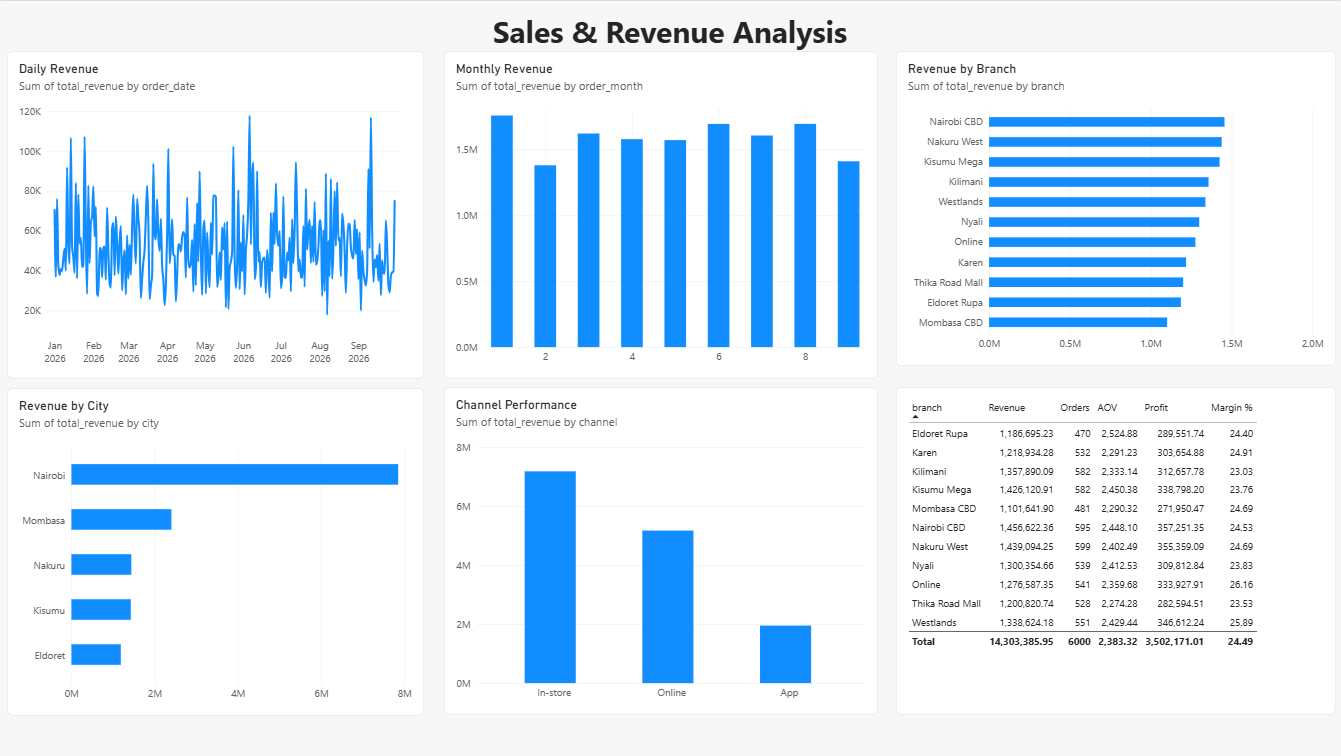

The page's visual inventory and layout, read from the dashboard file:
{"tool":"powerbi","page":{"name":"2. Sales & Revenue Analysis","canvas":[1920,1080],"ordinal":1},"visuals":[{"type":"textbox","box":[0,14.4,1920,57.5],"z":0},{"type":"lineChart","title":"Daily Revenue","fields":{"Y":["Sum(clean_pharmacy v_pharmacy_daily_sales.total_revenue)"],"Category":["clean_pharmacy v_pharmacy_daily_sales.order_date"]},"box":[12.9,71.4,595.8,468],"z":1000},{"type":"clusteredColumnChart","title":"Monthly Revenue","fields":{"Category":["clean_pharmacy v_pharmacy_daily_sales.order_month"],"Y":["Sum(clean_pharmacy v_pharmacy_daily_sales.total_revenue)"]},"box":[637.1,71.4,619.8,468],"z":2000},{"type":"clusteredBarChart","title":"Revenue by Branch","fields":{"Category":["clean_pharmacy v_branch_performance.branch"],"Y":["Sum(clean_pharmacy v_branch_performance.total_revenue)"]},"box":[1282.9,71.4,627.8,450.4],"z":3000},{"type":"clusteredBarChart","title":"Revenue by City","fields":{"Category":["clean_pharmacy v_city_performance.city"],"Y":["Sum(clean_pharmacy v_city_performance.total_revenue)"]},"box":[12.9,552.9,595.8,468],"z":4000},{"type":"clusteredColumnChart","title":"Channel Performance","fields":{"Category":["clean_pharmacy v_channel_performance.channel"],"Y":["Sum(clean_pharmacy v_channel_performance.total_revenue)"]},"box":[637.1,551.4,619.8,468],"z":5000},{"type":"tableEx","fields":{"Values":["clean_pharmacy v_branch_performance.branch","Sum(clean_pharmacy v_branch_performance.total_revenue)","Sum(clean_pharmacy v_branch_performance.total_orders)","Avg(clean_pharmacy v_branch_performance.average_order_value)","Sum(clean_pharmacy v_branch_performance.total_profit)","Avg(clean_pharmacy v_branch_performance.profit_margin_pct)"]},"box":[1282.9,551.4,627.8,468],"z":6000}]}

Visuals, with their boxes in screenshot pixels (x1, y1, x2, y2), scaled from the page's 1920x1080 canvas onto the 1341x756 screenshot:
textbox: (left=0, top=10, right=1340, bottom=50)
"Daily Revenue" lineChart: (left=9, top=50, right=425, bottom=378)
"Monthly Revenue" clusteredColumnChart: (left=445, top=50, right=878, bottom=378)
"Revenue by Branch" clusteredBarChart: (left=896, top=50, right=1335, bottom=365)
"Revenue by City" clusteredBarChart: (left=9, top=387, right=425, bottom=715)
"Channel Performance" clusteredColumnChart: (left=445, top=386, right=878, bottom=714)
tableEx - clean_pharmacy v_branch_performance.branch x Sum(clean_pharmacy v_branch_performance.total_revenue): (left=896, top=386, right=1335, bottom=714)
